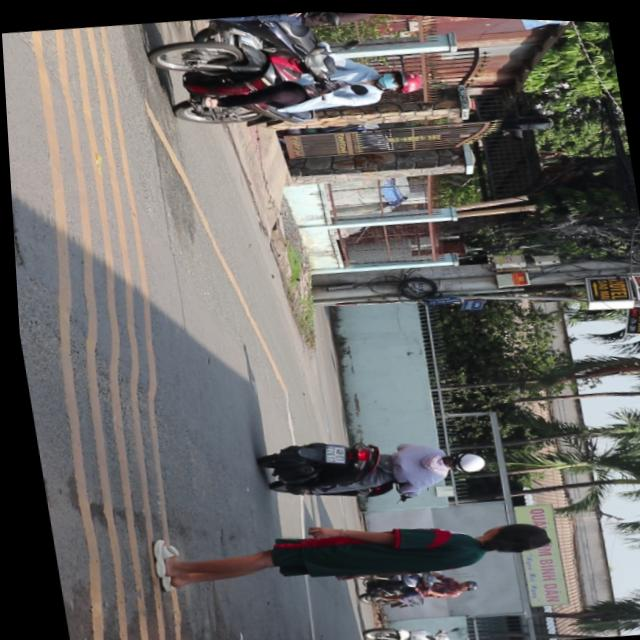helmet: (376, 61, 425, 92), (439, 443, 482, 470)
licenseplate: (142, 4, 431, 142), (250, 416, 487, 507)
nohelmet: (318, 440, 341, 461)
